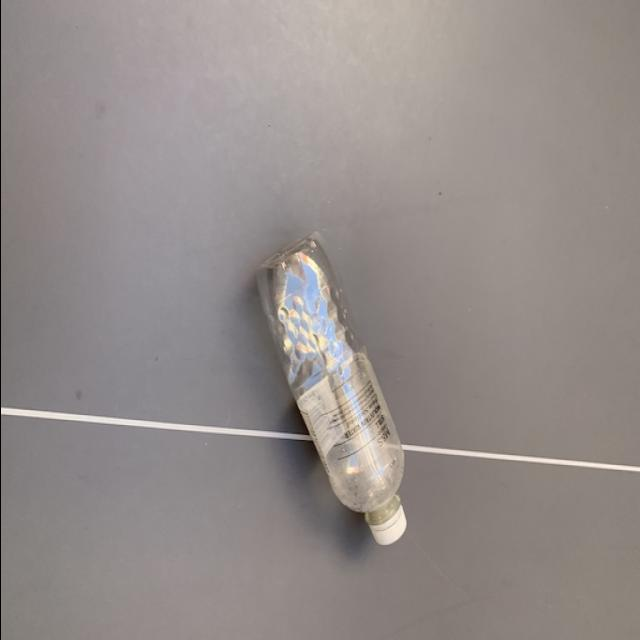litter: (255, 223, 405, 546)
